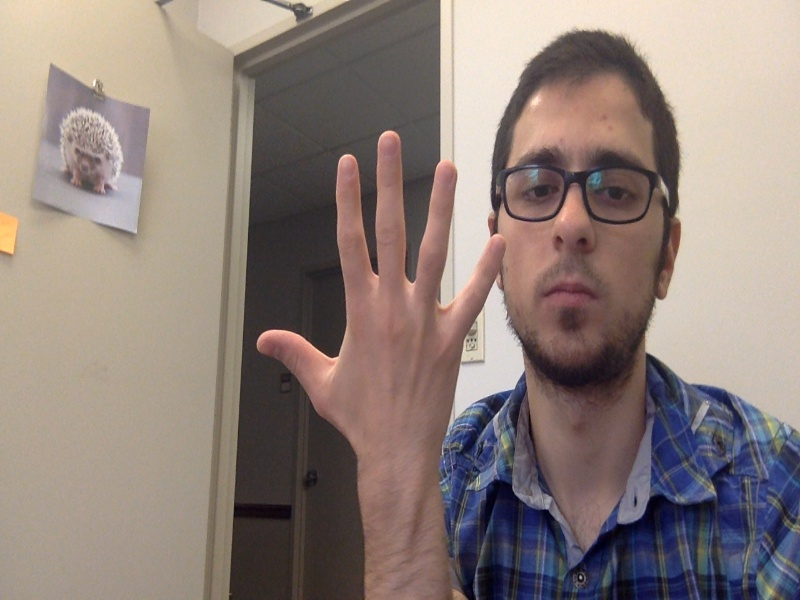5-hand: (255, 132, 508, 456)
